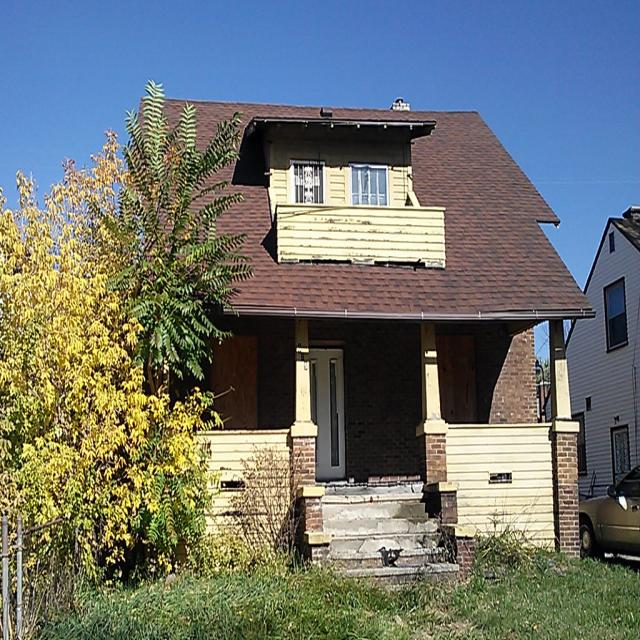House: (131, 100, 599, 589), (543, 207, 640, 499)
